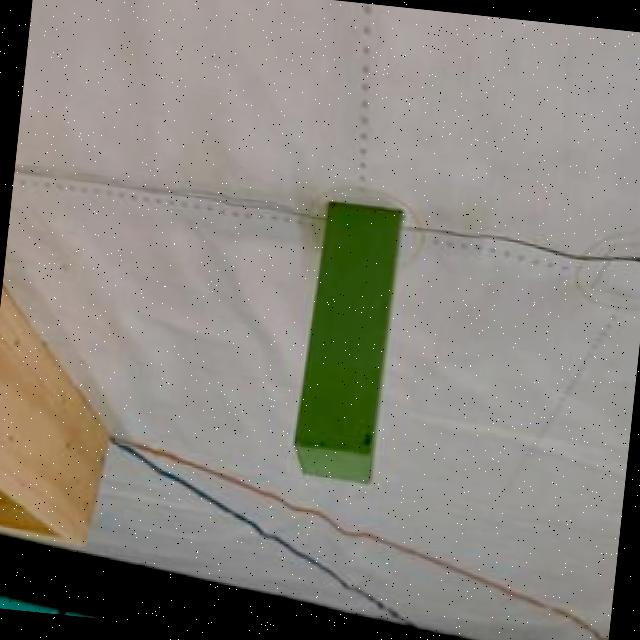greenbox: (289, 197, 404, 490)
